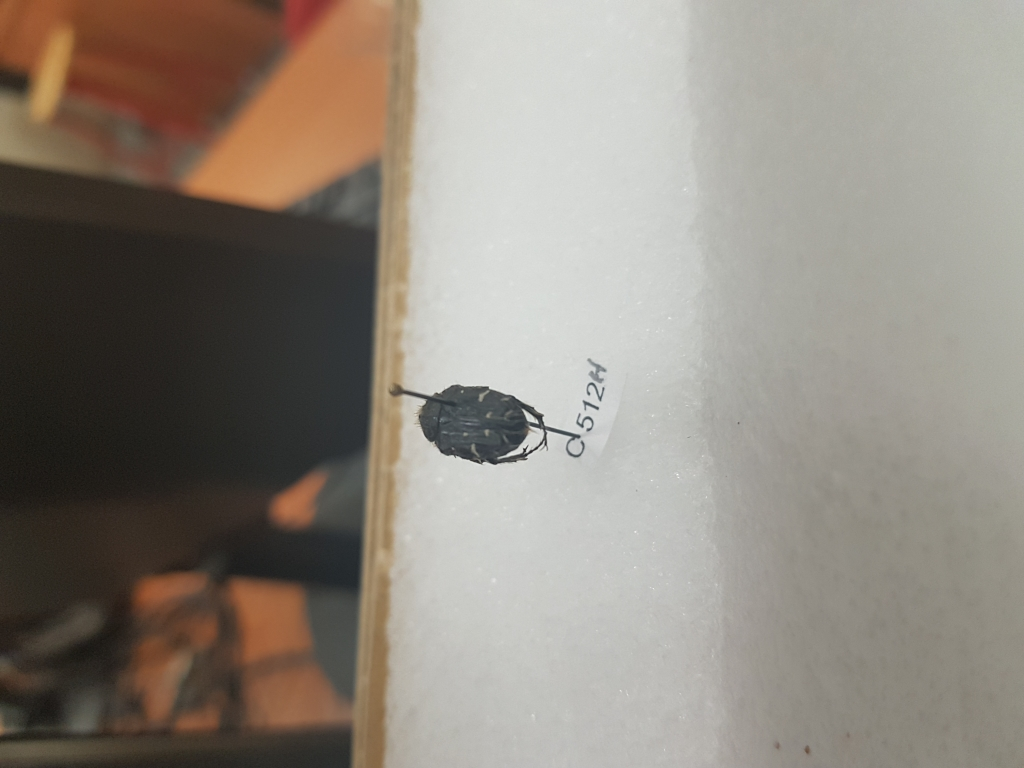Tropinota_senicula: (404, 365, 551, 476)
